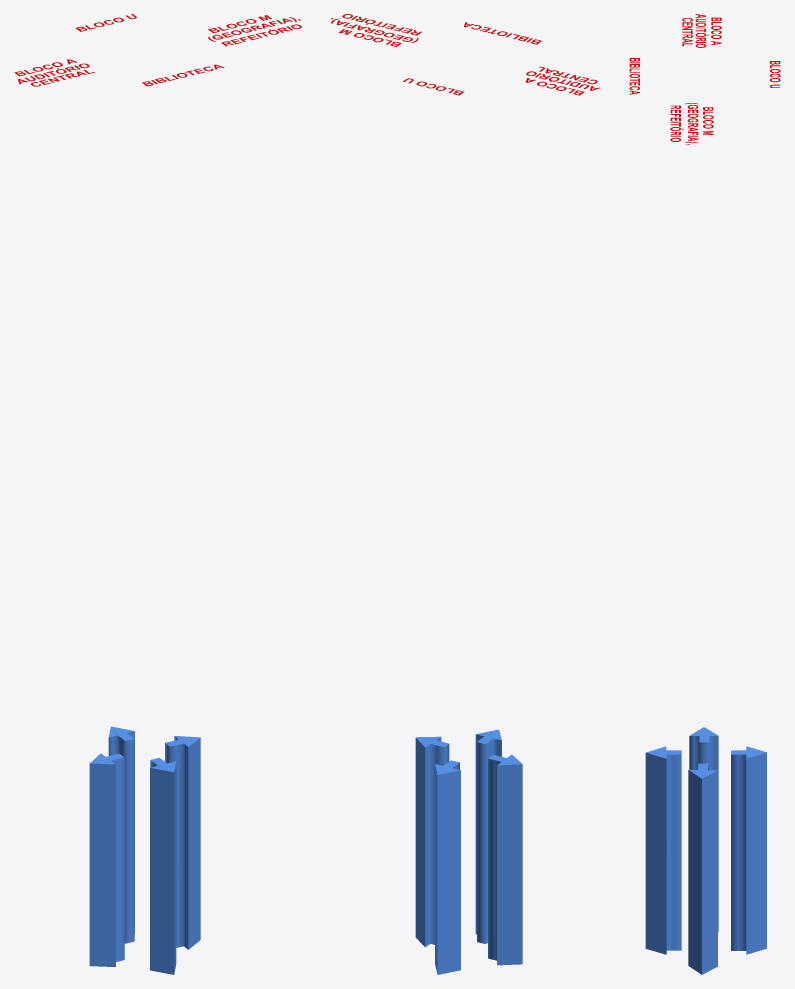
Rendered from Seta bloco U.glb.
The picture shows the model from 3 angles, left to right: view 1: azimuth 30°, elevation 25°; view 2: azimuth 150°, elevation 25°; view 3: azimuth 270°, elevation 25°; orthographic projection. The views are drawn at different scales.
Visible parts, largest first — view 1: Curve.001, Curve.004, Curve.003, Curve.006; view 2: Curve.001, Curve.006, Curve.003, Curve.004; view 3: Curve.004, Curve.006, Curve.003, Curve.001.
Part boxes in pixels (x1,y1,x2,y2): Curve.001: (89,753,124,966); Curve.004: (150,758,176,974); Curve.003: (165,736,200,949); Curve.006: (108,726,134,943); Curve.001: (488,754,522,965); Curve.006: (435,760,460,974); Curve.003: (415,736,449,947); Curve.004: (475,729,501,943); Curve.004: (645,746,681,954); Curve.006: (731,746,766,954); Curve.003: (688,763,717,974); Curve.001: (689,727,718,931).
Bounding box in the file's own units: 0.1882 × 0.5868 × 0.0919.
